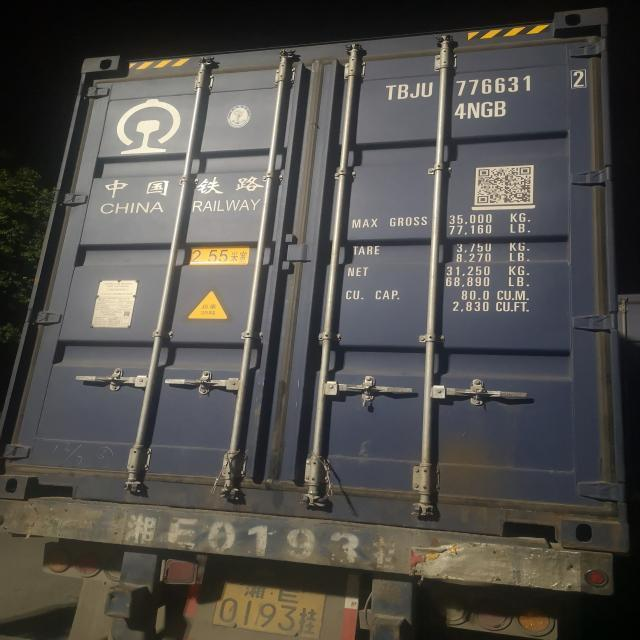ISO: (454, 102, 506, 118)
container_number: (388, 73, 588, 99)
